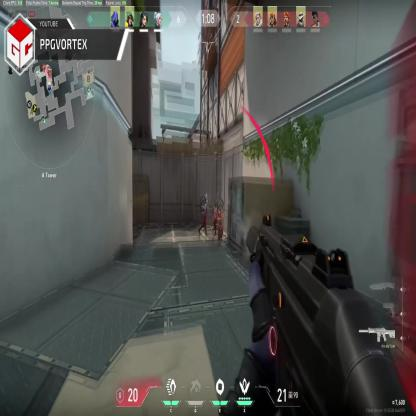enemy: (201, 195, 209, 237), (218, 198, 223, 240), (213, 200, 218, 234)
enemy_head: (218, 199, 222, 209), (202, 197, 206, 205), (215, 200, 218, 207)
